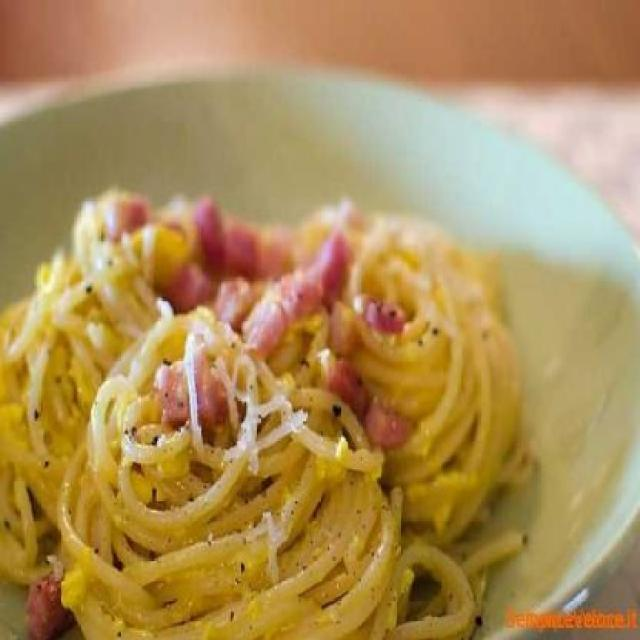Pasta with carbonara sauce: (11, 150, 571, 638)
